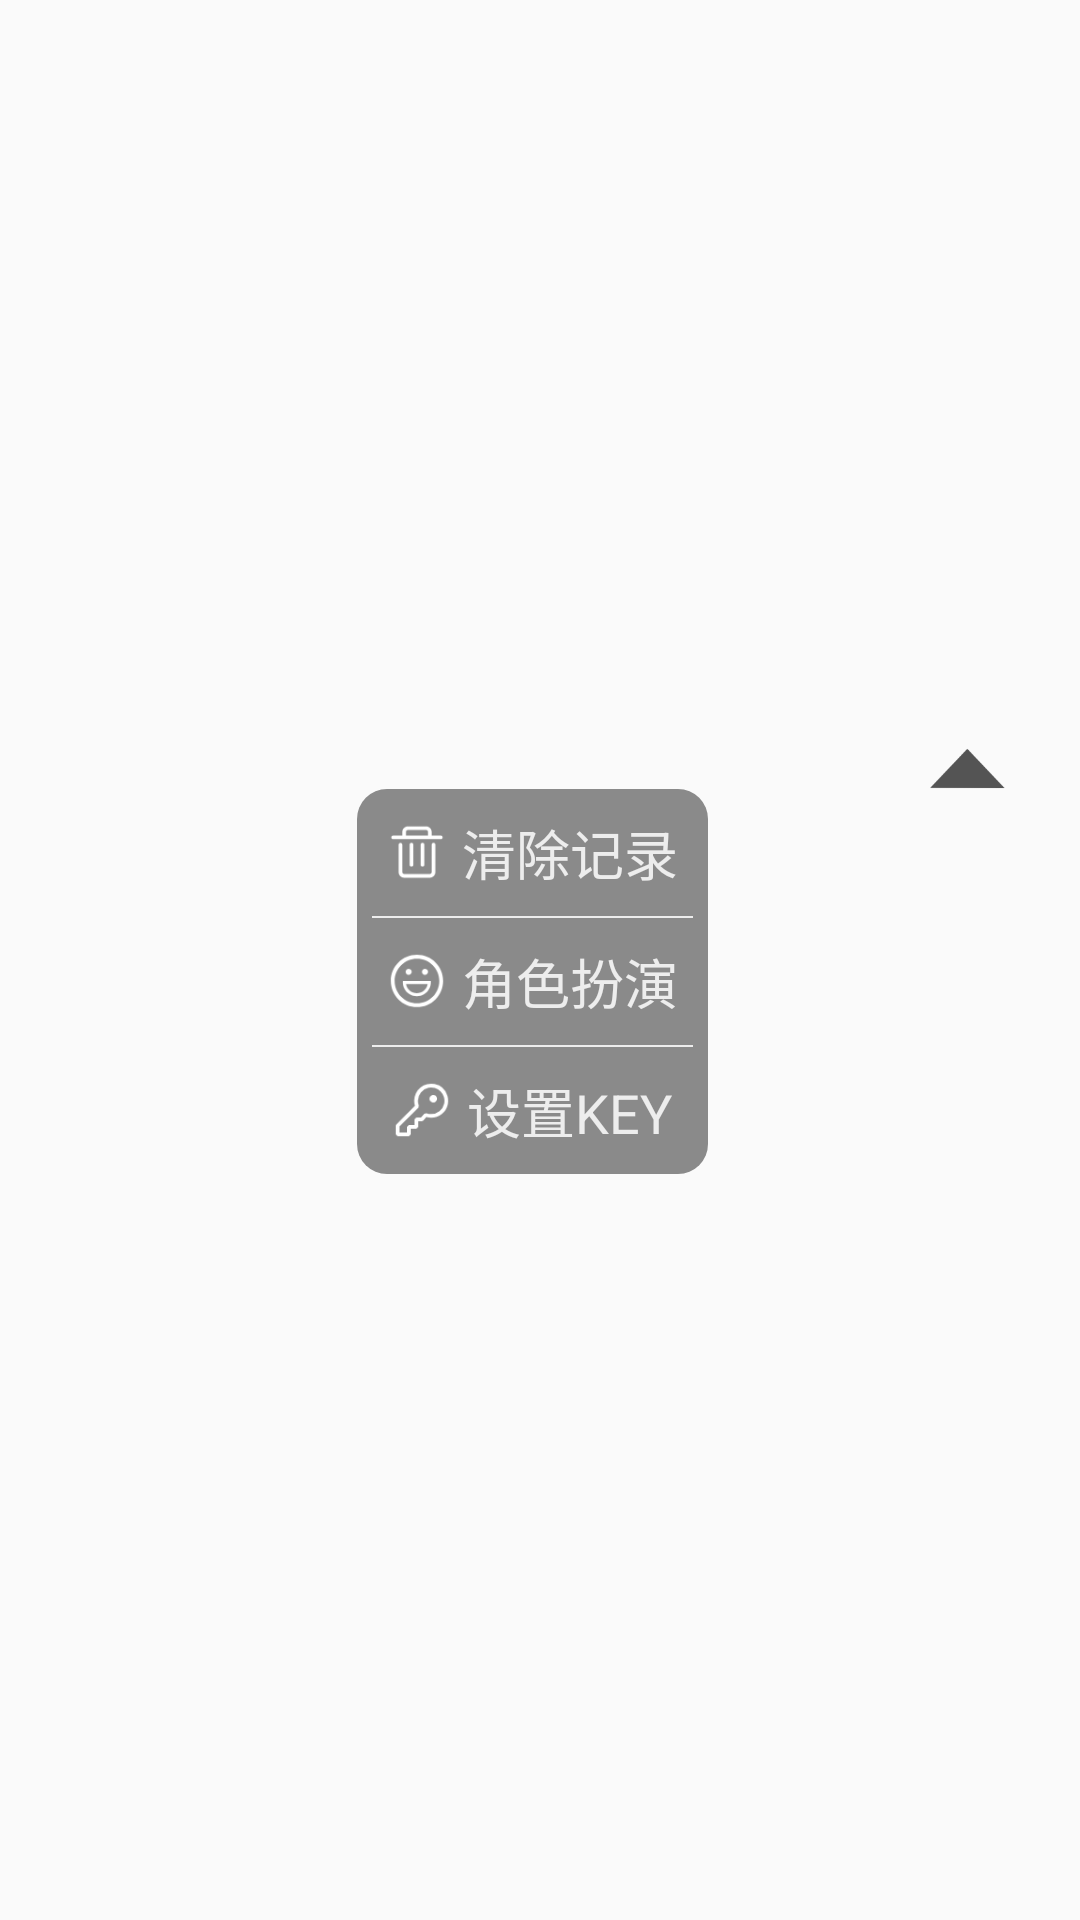

Locate icon controls on the screen. Image size 1080*1920, boxes as (x1, y1, x2, y2).
delete: (391, 826, 443, 878)
key: (395, 1083, 448, 1137)
popupmenu arrow: (930, 749, 1005, 788)
